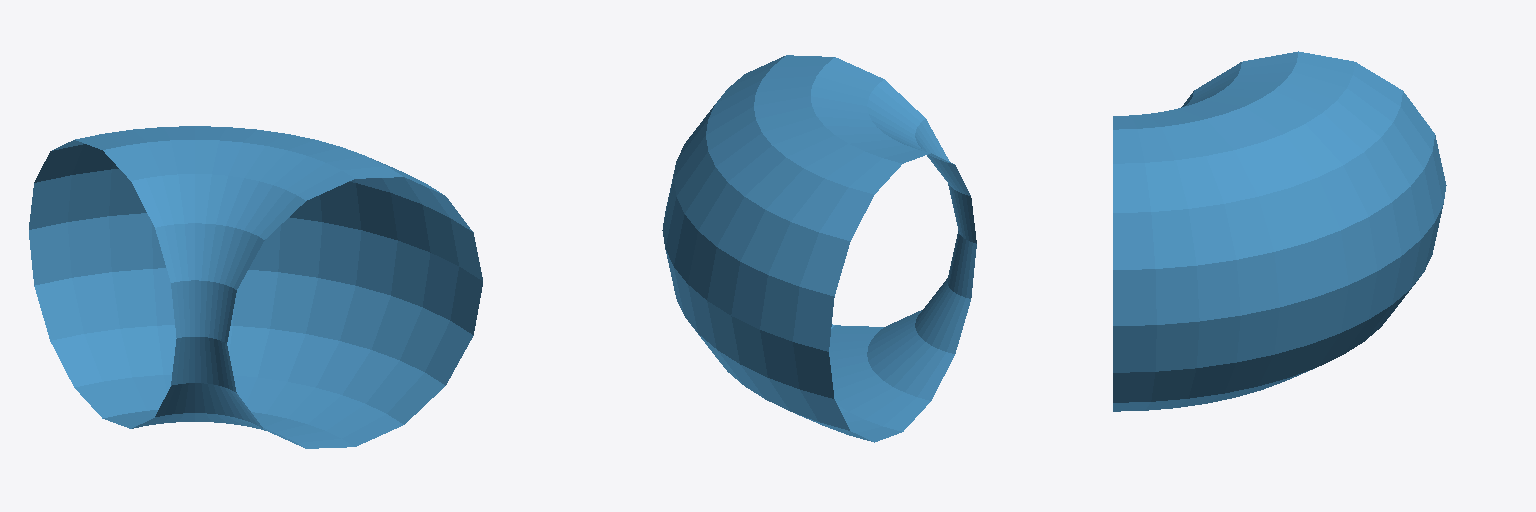
Rendered from pipe-curve-1.obj.
3 renders of one model, left to right at view 1: azimuth 30°, elevation 25°; view 2: azimuth 150°, elevation 25°; view 3: azimuth 270°, elevation 25°, orthographic.
Parts seen in each view (by area): view 1: Torus; view 2: Torus; view 3: Torus.
Part boxes in pixels (left/top/right/bottom): Torus: left=29, top=126, right=482, bottom=448; Torus: left=662, top=55, right=976, bottom=442; Torus: left=1113, top=51, right=1446, bottom=411.
Size of the model in its own units: 0.9 by 0.8 by 0.9.